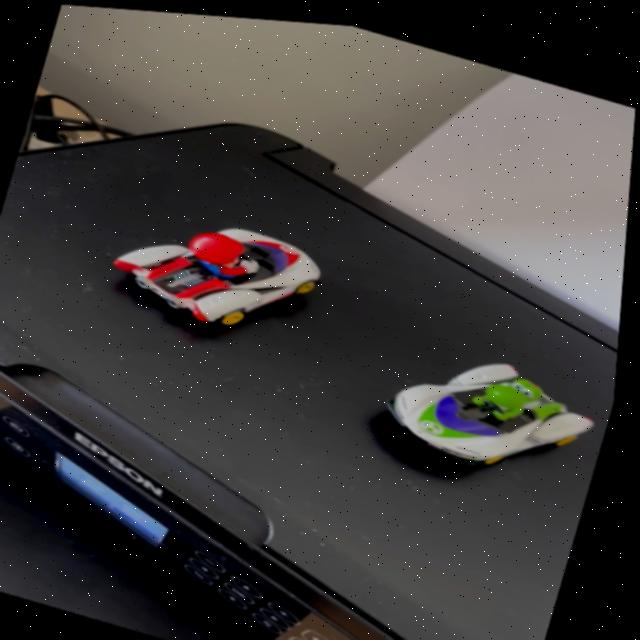mario: (85, 185, 345, 356)
yoshi: (360, 316, 618, 500)
